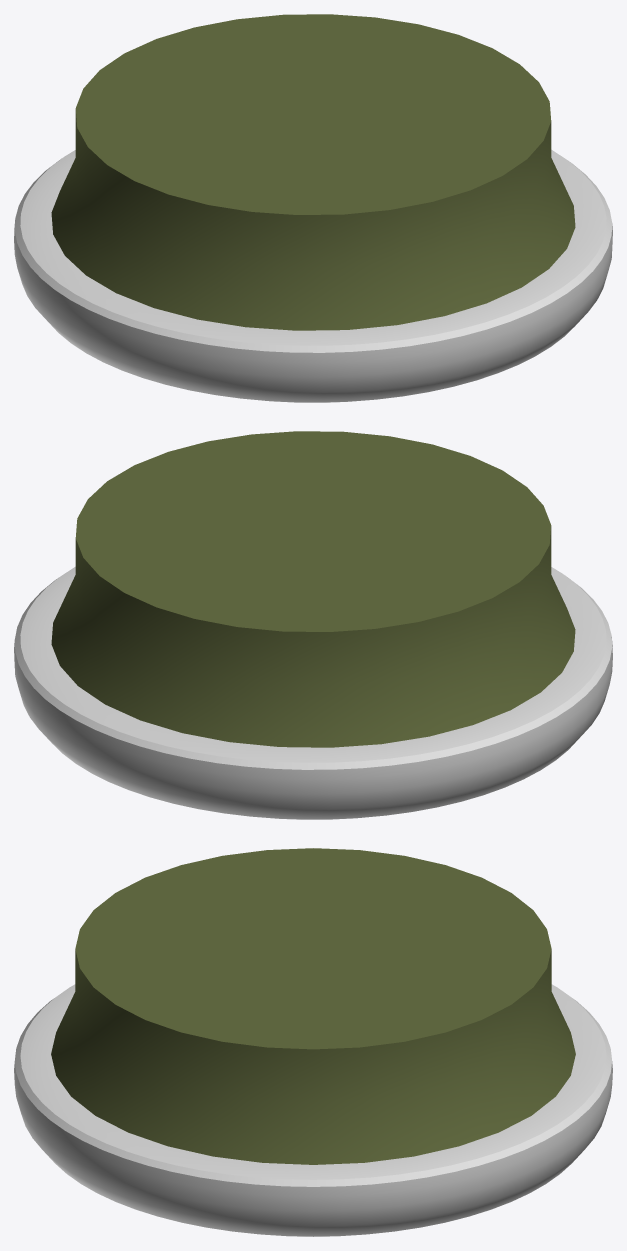
Rendered from ceilingLamp.fbx.
3 views of the same model, one above another, from view 1: azimuth 30°, elevation 25°; view 2: azimuth 150°, elevation 25°; view 3: azimuth 270°, elevation 25° (orthographic).
Parts seen in each view (by area): view 1: Cylinder.001; view 2: Cylinder.001; view 3: Cylinder.001.
Boxes of the visible parts, x1,y1,x2,y2 form: Cylinder.001: (14,14,612,402); Cylinder.001: (14,431,612,819); Cylinder.001: (14,848,612,1236).
Bounding box in the file's own units: 252 × 86.47 × 252.
